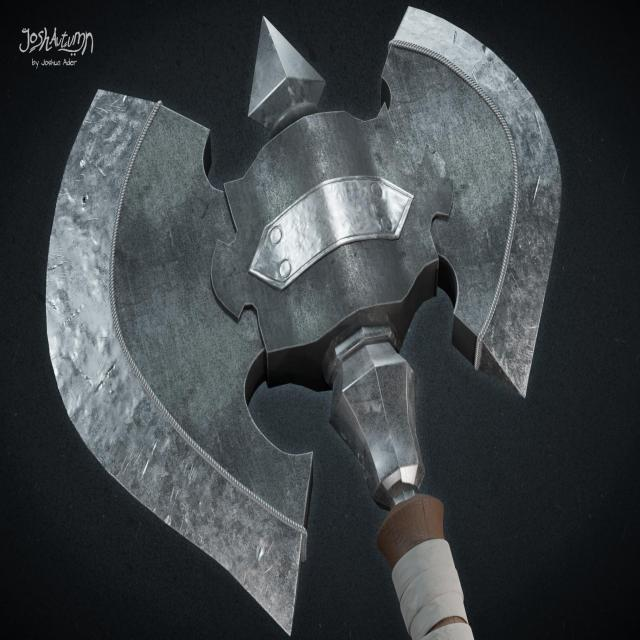Gun: (69, 35, 587, 640)
